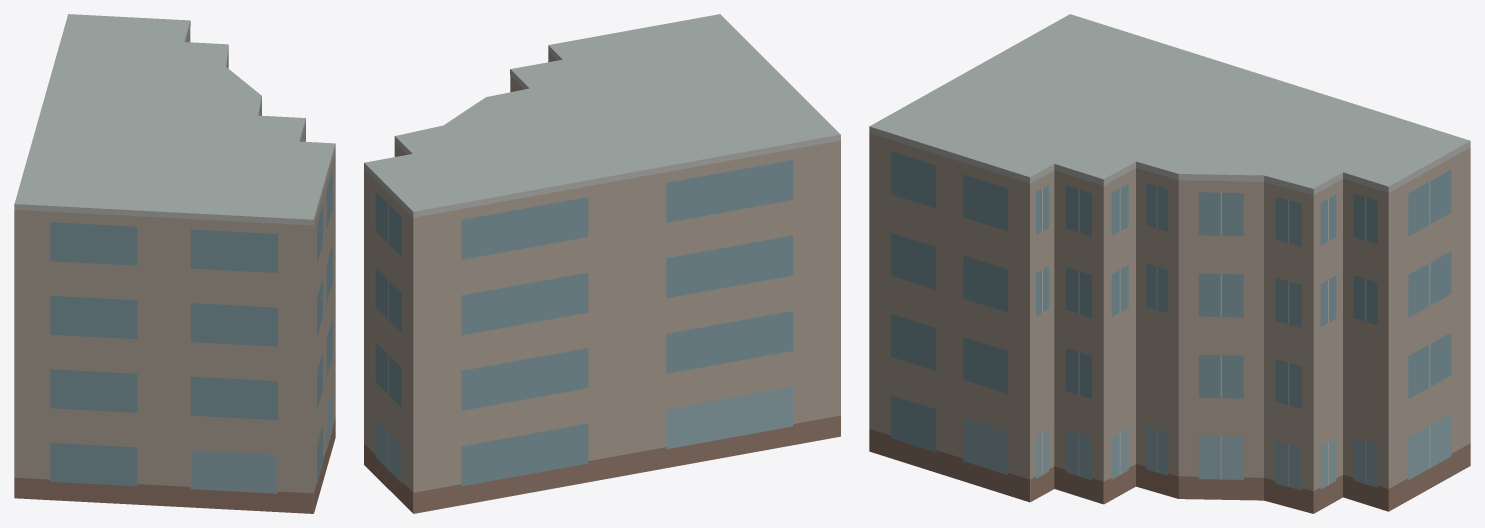
The model's file is survey-upis-33013397.glb.
3 renders of one model, left to right at view 1: azimuth 30°, elevation 25°; view 2: azimuth 150°, elevation 25°; view 3: azimuth 270°, elevation 25°, orthographic. The views are drawn at different scales.
Parts seen in each view (by area): view 1: survey-upis-33013397.tmp; view 2: survey-upis-33013397.tmp; view 3: survey-upis-33013397.tmp.
Part boxes in pixels (x1=…): survey-upis-33013397.tmp: x1=14, y1=14, x2=335, y2=513; survey-upis-33013397.tmp: x1=364, y1=14, x2=840, y2=513; survey-upis-33013397.tmp: x1=869, y1=14, x2=1470, y2=513.
Bounding box in the file's own units: 14.32 × 12.4 × 20.8.
